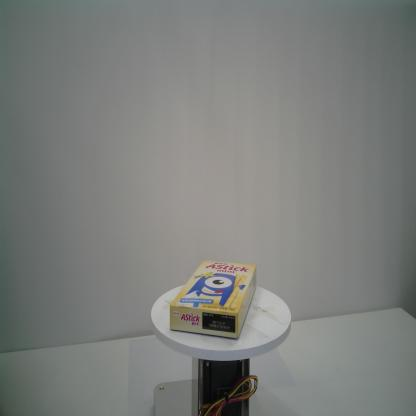Dessert: (168, 258, 258, 342)
